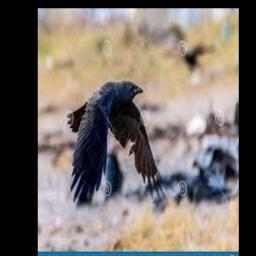Crow: (67, 79, 164, 207)
